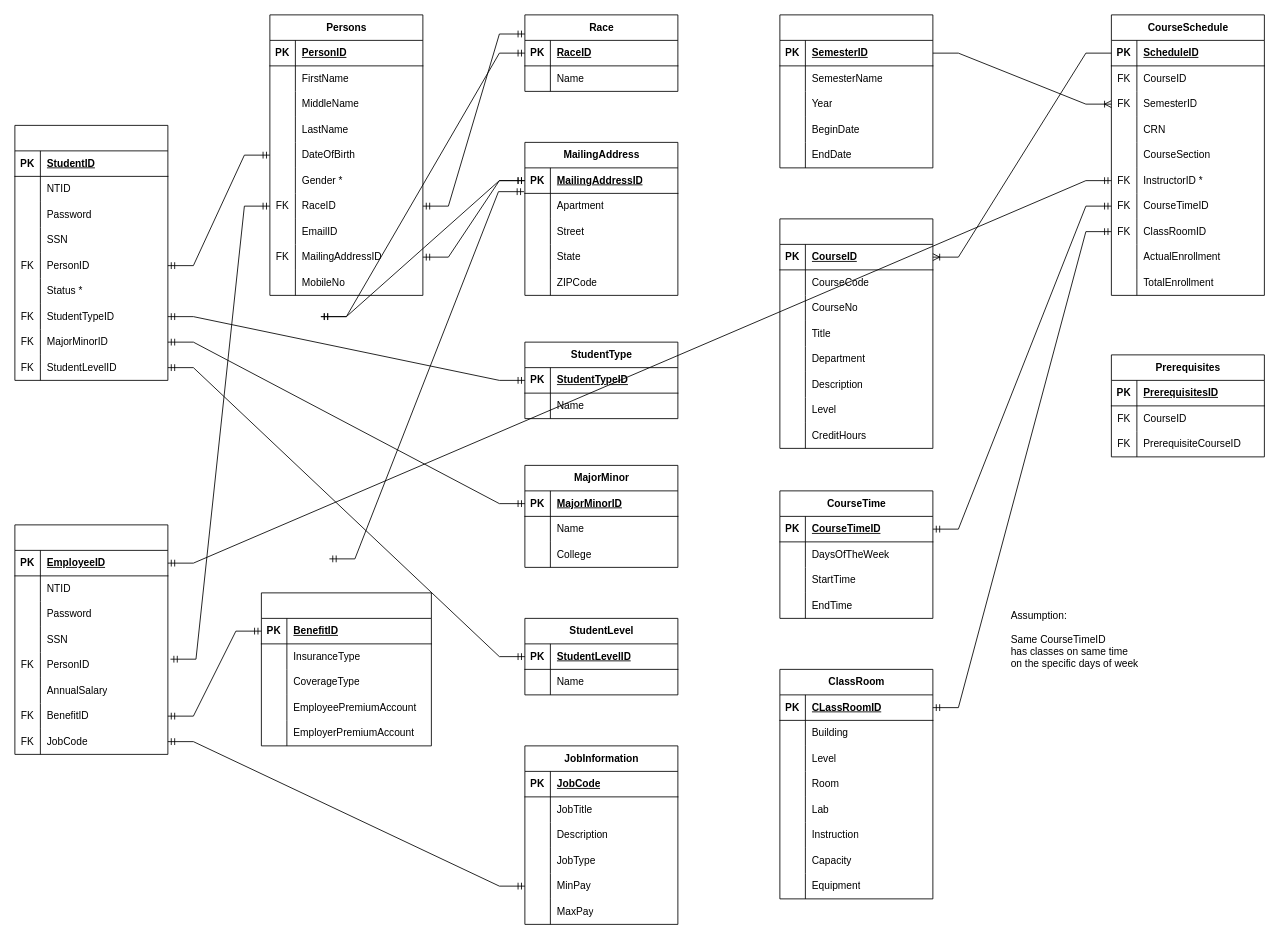
The diagram is 1279 pixels wide and 939 high, and some of its shapes have lost their labels. The shapes that lost their labels are listed below. From the top down, each one's box as (x1, y1, x2, y2) in pixels, then its label:
(779, 14, 933, 168): Semesters
(14, 125, 168, 380): Students
(779, 218, 933, 448): Courses
(14, 524, 168, 754): Employees
(261, 592, 431, 746): Benefits
